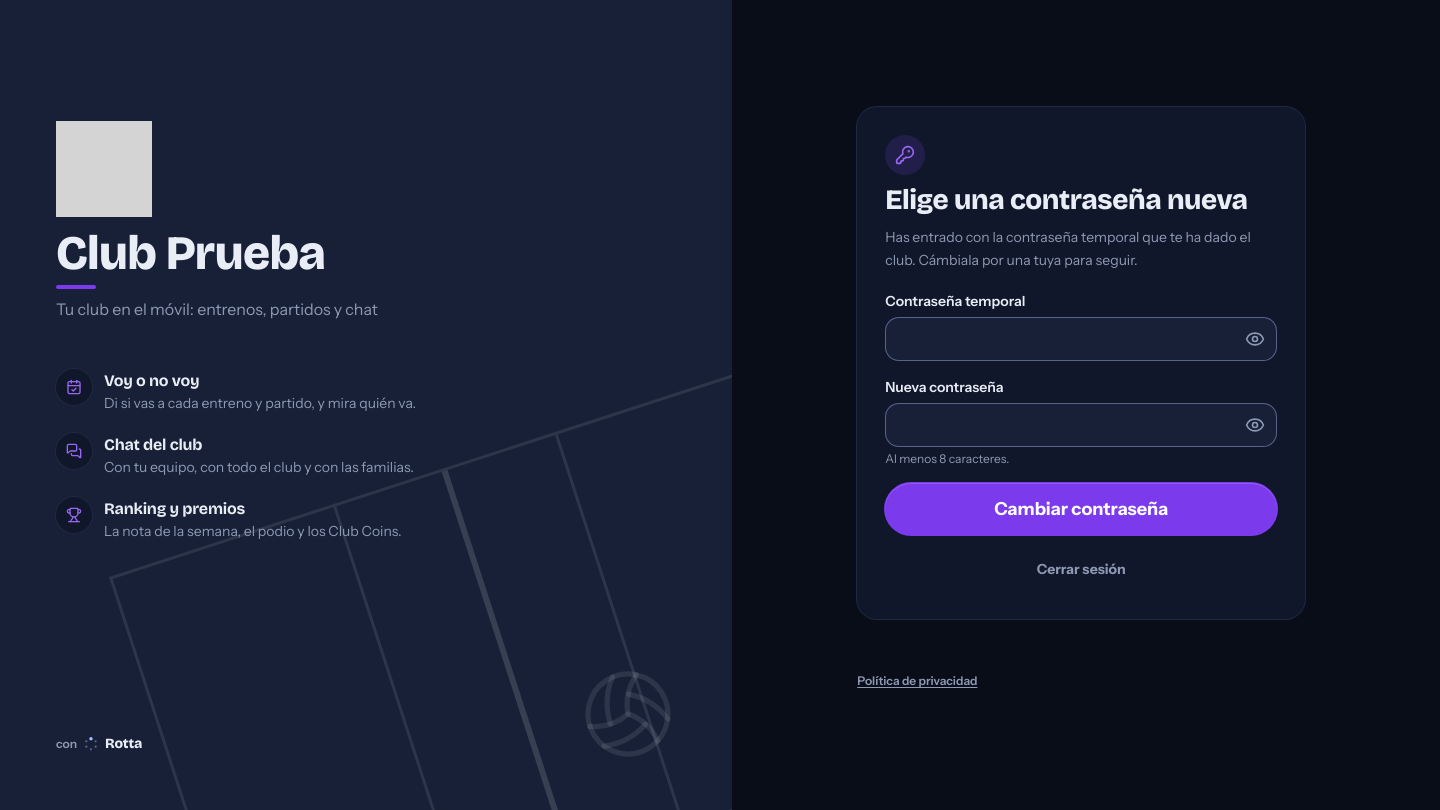
ChangePasswordPage (contraseña temporal) › la nueva necesita 8 caracteres o más
Type "temporal123456" into the password field labelled "Contraseña temporal" at [1081, 339], box [885,317,1277,361]
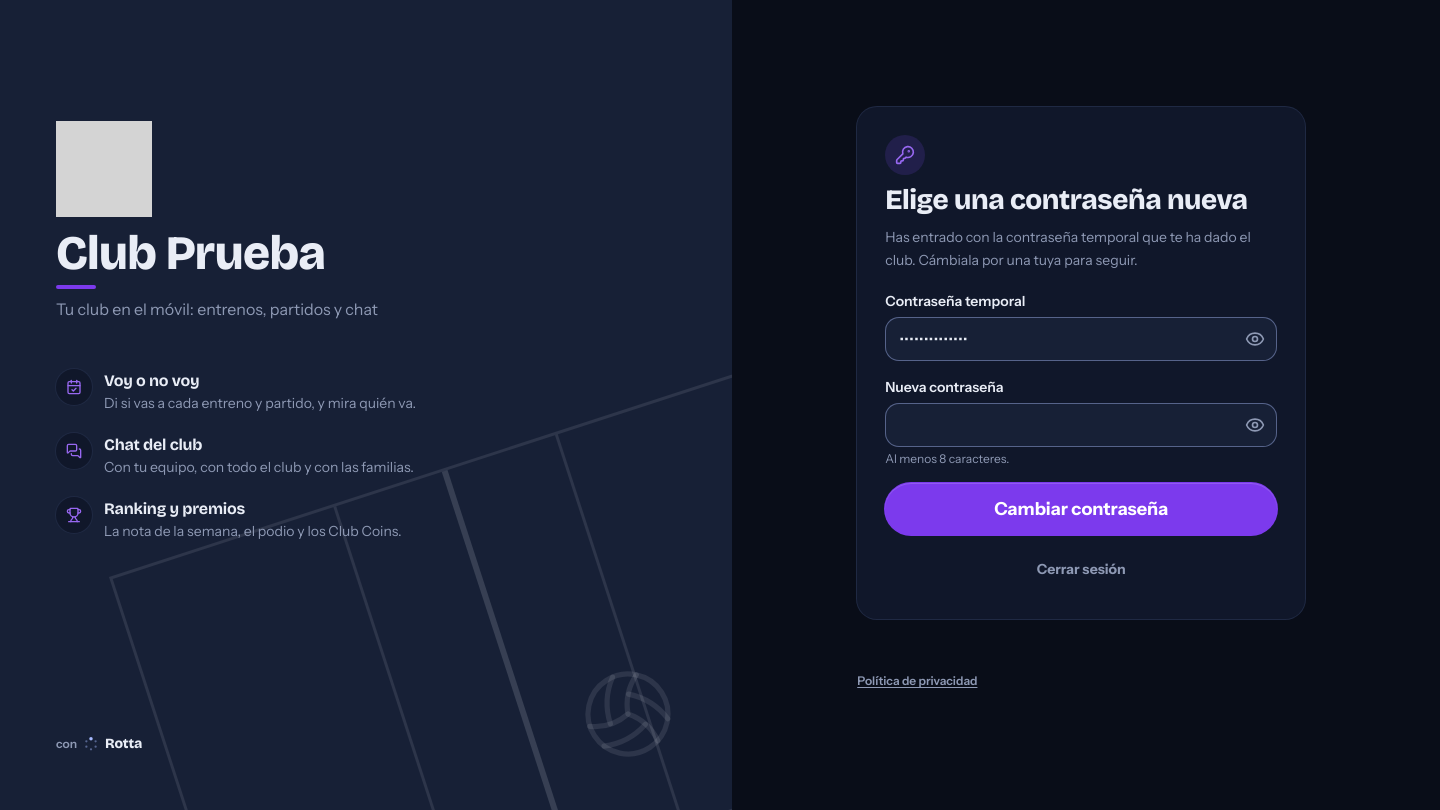
Type "corta" into the password field labelled "Nueva contraseña" at [1081, 425], box [885,403,1277,447]
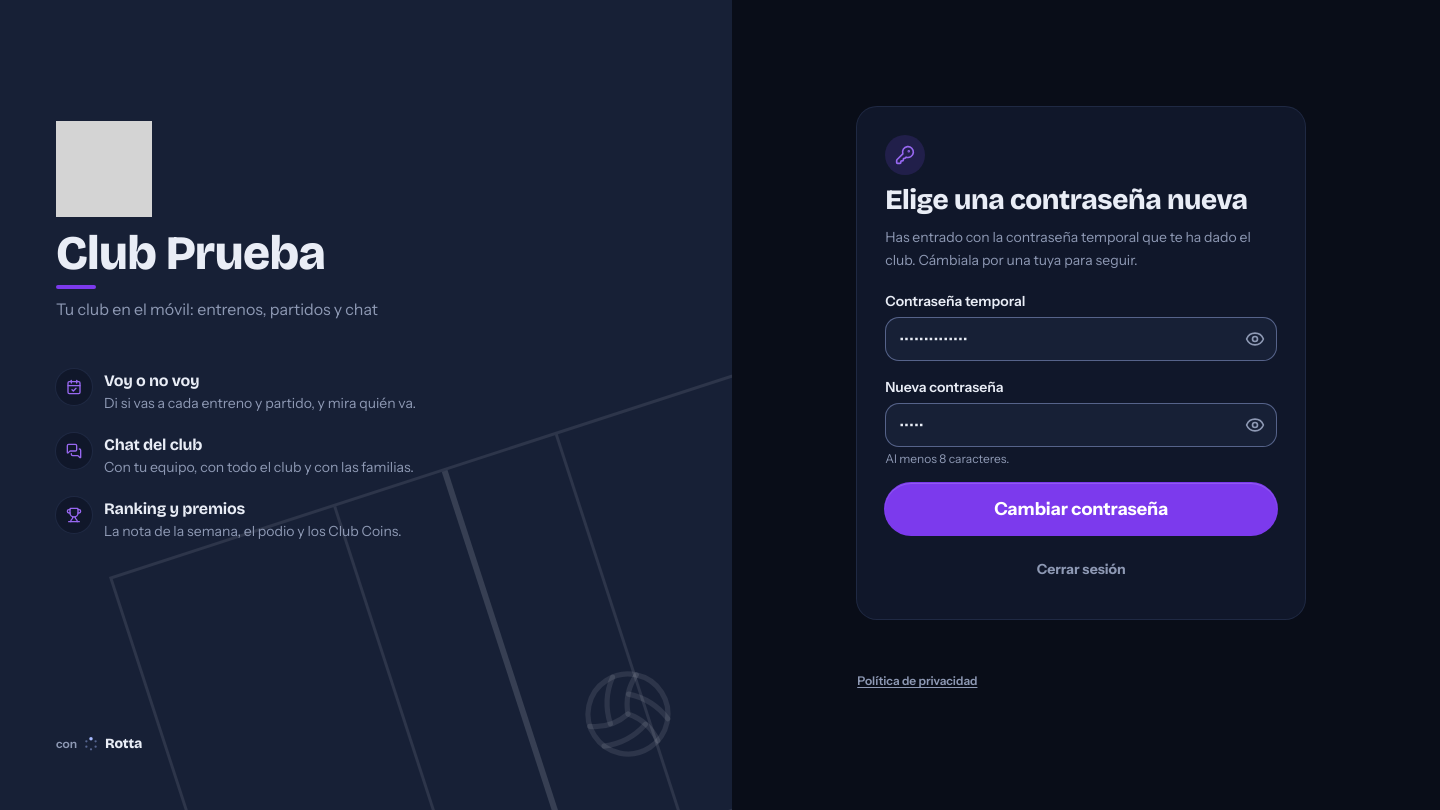
Click the button "Cambiar contraseña" at [1081, 509], box [885,483,1277,535]
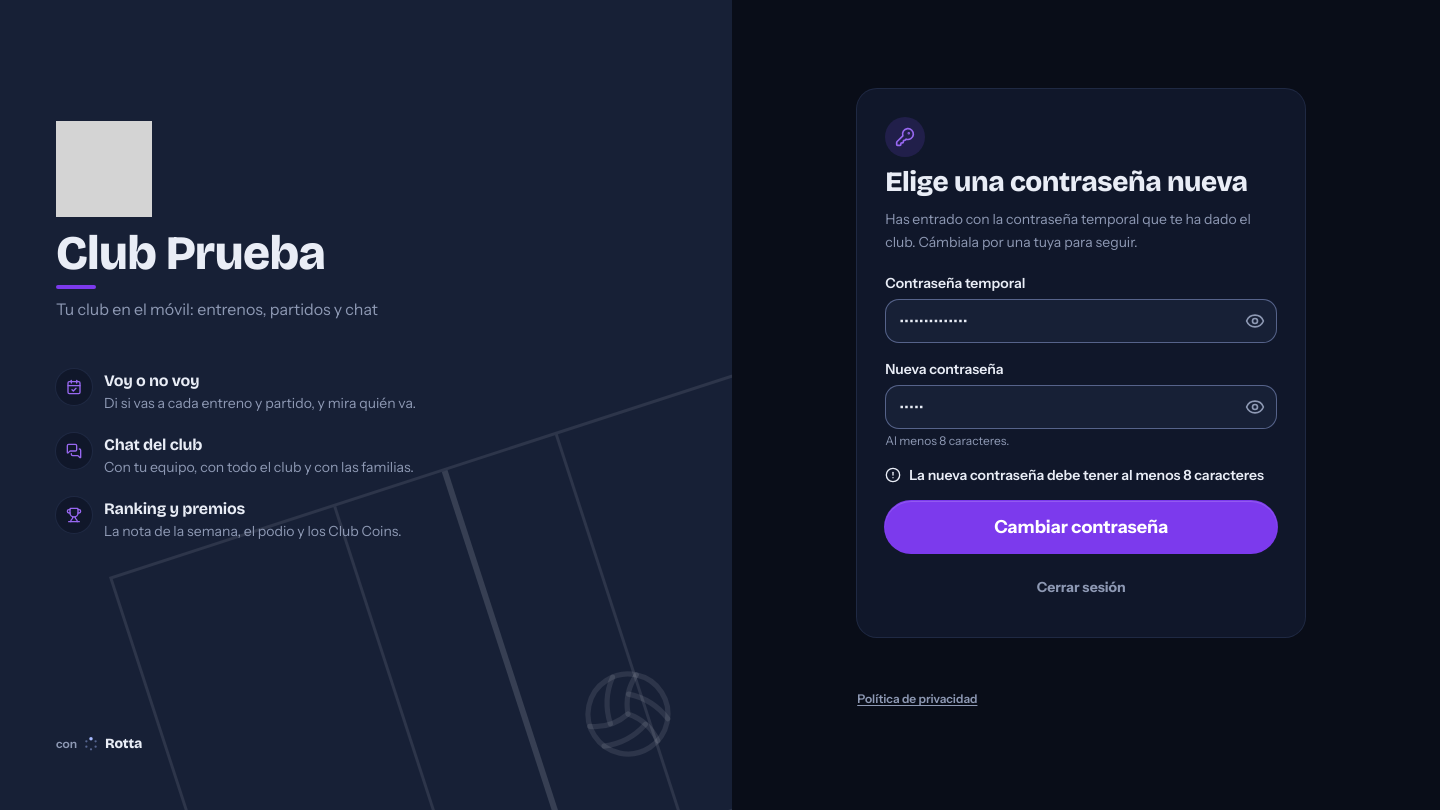
expect the message shows "8 caracteres": met, box [909,466,1264,484]
